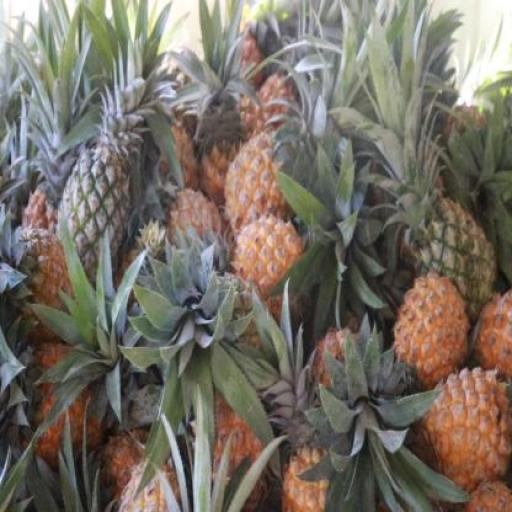Pineapple - v8 v1: (428, 366, 509, 492), (397, 279, 474, 393), (226, 143, 297, 245), (235, 216, 307, 305)
